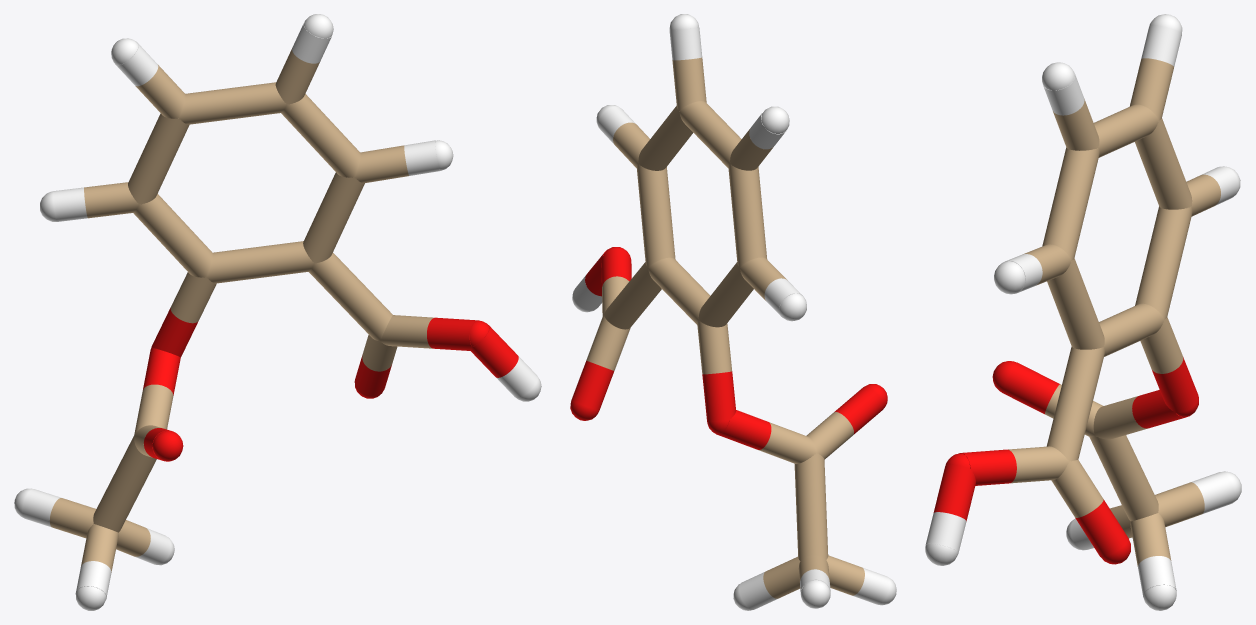
The model's file is aspirin.dae.
3 renders of one model, left to right at view 1: azimuth 30°, elevation 25°; view 2: azimuth 150°, elevation 25°; view 3: azimuth 270°, elevation 25°, orthographic. The views are drawn at different scales.
Visible parts, largest first — view 1: subnode_43, subnode_33, subnode_36, subnode_34, subnode_40, subnode_35, subnode_37, subnode_48, subnode_41, subnode_38, subnode_22, subnode_44 (+21 smaller); view 2: subnode_48, subnode_35, subnode_37, subnode_33, subnode_43, subnode_36, subnode_40, subnode_34, subnode_22, subnode_21, subnode_46, subnode_24 (+24 smaller); view 3: subnode_36, subnode_34, subnode_40, subnode_48, subnode_35, subnode_37, subnode_43, subnode_33, subnode_44, subnode_30, subnode_31, subnode_27 (+24 smaller).
Boxes of the visible parts, left/top/right/bottom form: subnode_43: left=179, top=82, right=286, bottom=124; subnode_33: left=206, top=241, right=313, bottom=283; subnode_36: left=309, top=253, right=392, bottom=341; subnode_34: left=133, top=194, right=213, bottom=277; subnode_40: left=281, top=94, right=360, bottom=177; subnode_35: left=303, top=172, right=364, bottom=263; subnode_37: left=128, top=113, right=189, bottom=204; subnode_48: left=93, top=435, right=156, bottom=532; subnode_41: left=354, top=145, right=408, bottom=183; subnode_38: left=84, top=182, right=139, bottom=218; subnode_22: left=170, top=272, right=216, bottom=323; subnode_44: left=135, top=65, right=185, bottom=118; subnode_48: left=794, top=453, right=828, bottom=560; subnode_35: left=636, top=164, right=675, bottom=267; subnode_37: left=728, top=164, right=766, bottom=267; subnode_33: left=648, top=257, right=710, bottom=324; subnode_43: left=679, top=101, right=741, bottom=168; subnode_36: left=604, top=262, right=661, bottom=329; subnode_40: left=638, top=106, right=693, bottom=170; subnode_34: left=698, top=262, right=753, bottom=327; subnode_22: left=697, top=320, right=731, bottom=374; subnode_21: left=702, top=371, right=736, bottom=422; subnode_46: left=672, top=57, right=706, bottom=111; subnode_24: left=758, top=422, right=816, bottom=463; subnode_36: left=1046, top=346, right=1104, bottom=461; subnode_34: left=1135, top=206, right=1192, bottom=319; subnode_40: left=1042, top=147, right=1099, bottom=260; subnode_48: left=1089, top=435, right=1158, bottom=521; subnode_35: left=1047, top=258, right=1104, bottom=349; subnode_37: left=1135, top=118, right=1192, bottom=209; subnode_43: left=1093, top=104, right=1158, bottom=157; subnode_33: left=1099, top=303, right=1163, bottom=356; subnode_44: left=1129, top=58, right=1173, bottom=120; subnode_30: left=1051, top=460, right=1103, bottom=517; subnode_31: left=1001, top=362, right=1059, bottom=414; subnode_27: left=933, top=464, right=975, bottom=521.
Bounding box in the file's own units: 5.88 × 7.85 × 3.72.
